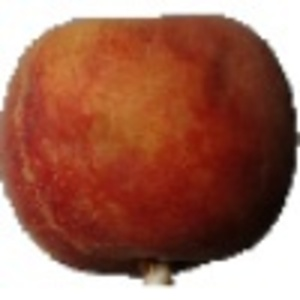pêssego: (1, 12, 300, 290)
